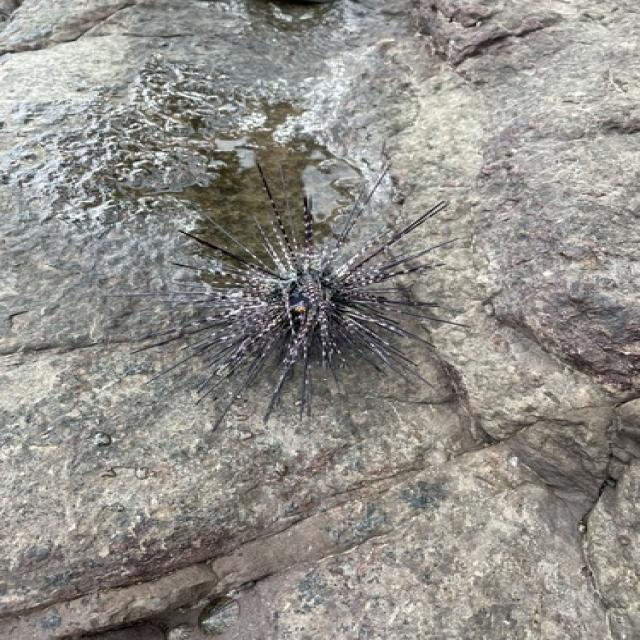Urchin: (104, 161, 475, 425)
